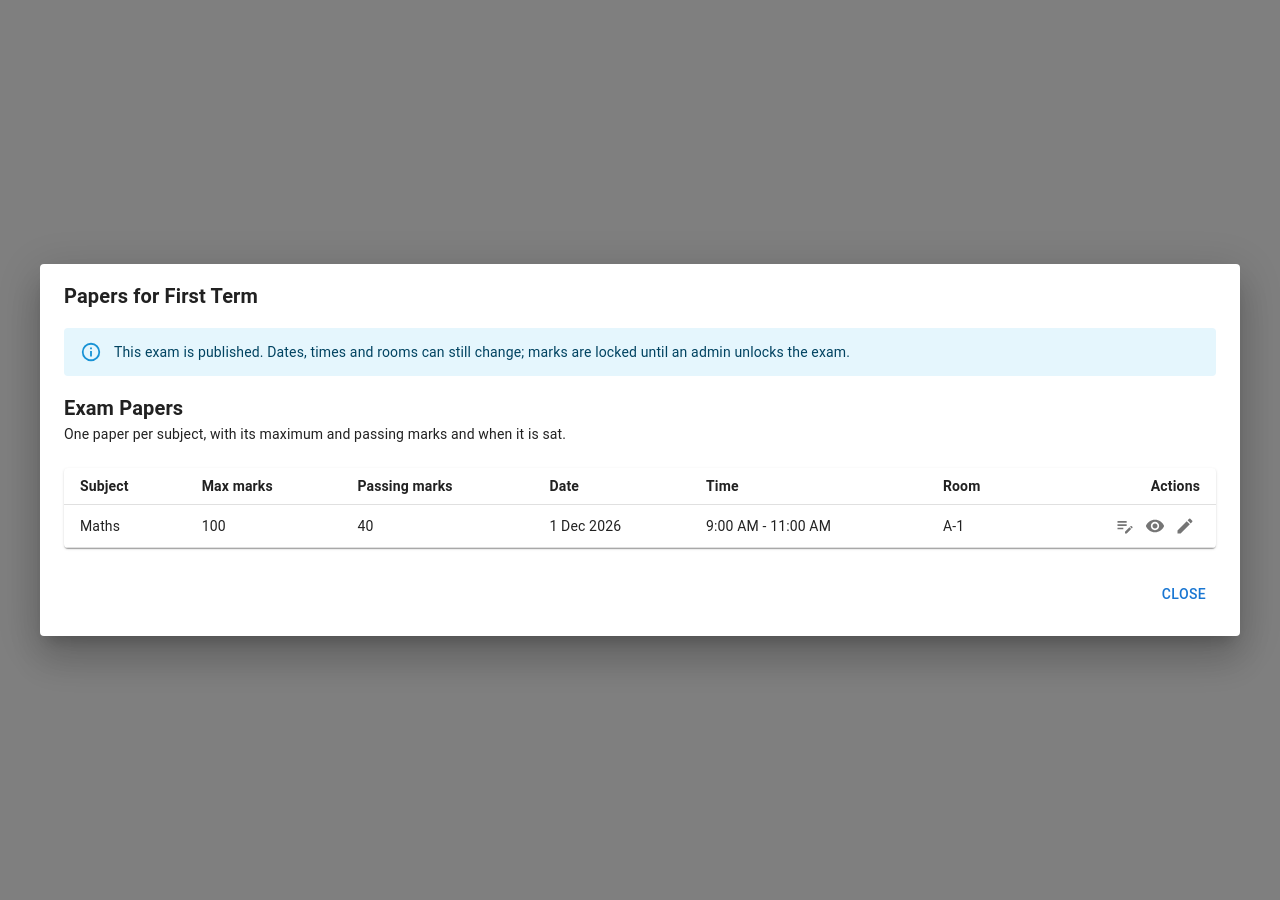
Scenario: ExamPapersDialog › opens the marks grid for a paper, even once the exam is published
Click the button named "Enter marks" at (1125, 526), box [1110,511,1140,541]
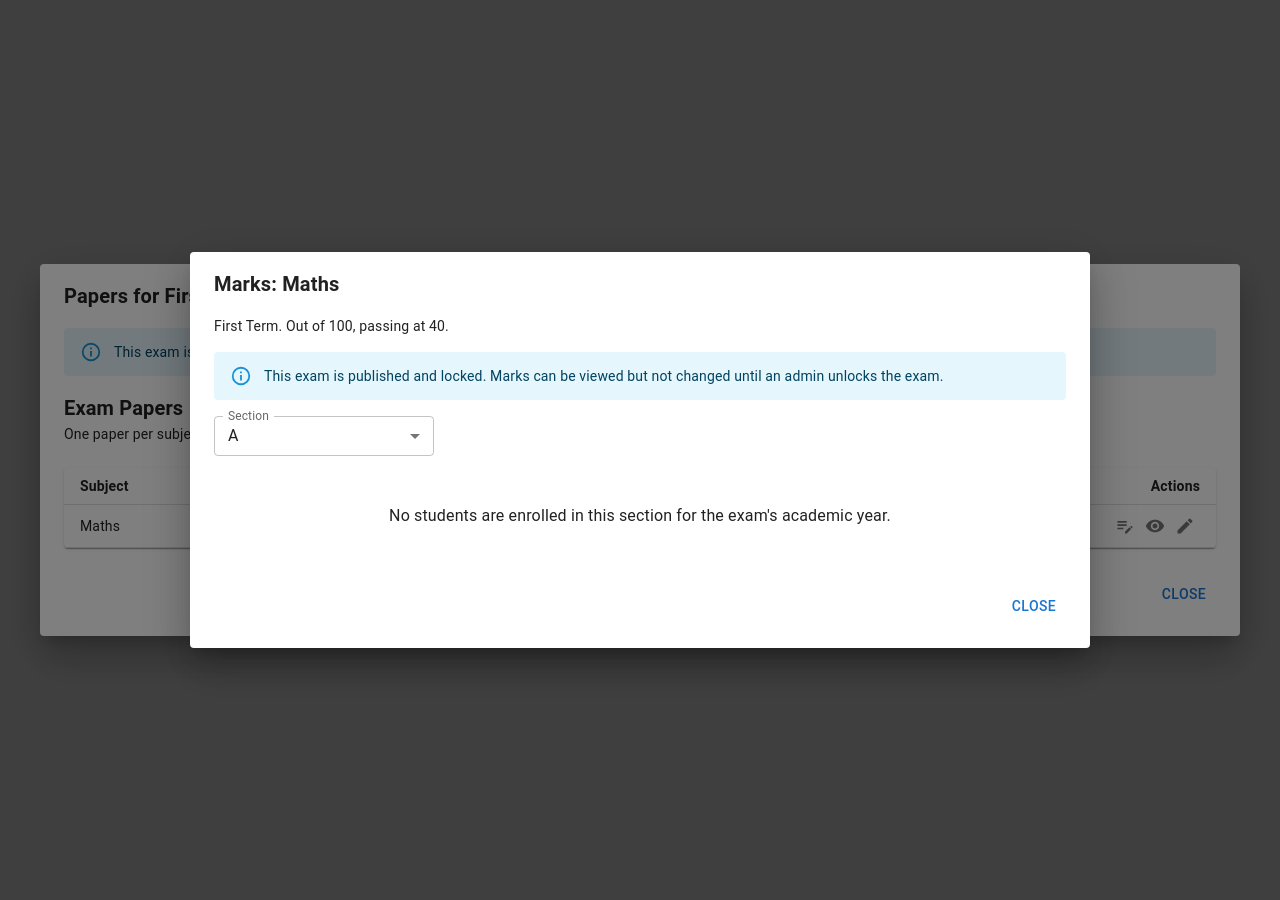
Now the heading "Marks: Maths" is shown, box [214,272,340,296]
